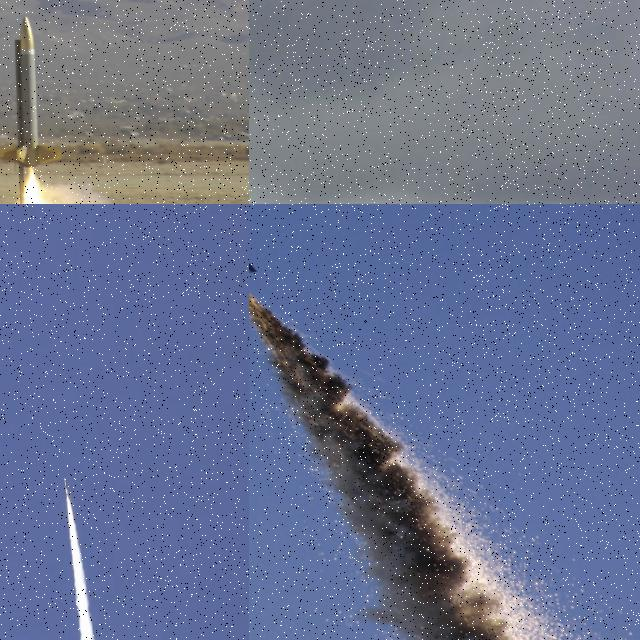Rocket: (0, 15, 63, 169), (64, 478, 68, 497)
